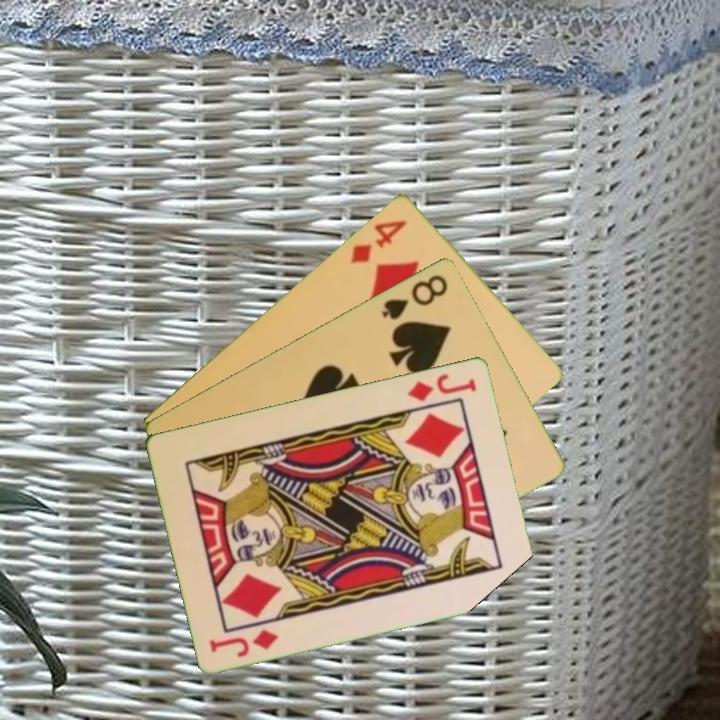4d: (346, 215, 410, 266)
8s: (378, 270, 451, 322)
Jd: (206, 625, 281, 660), (404, 370, 480, 404)
